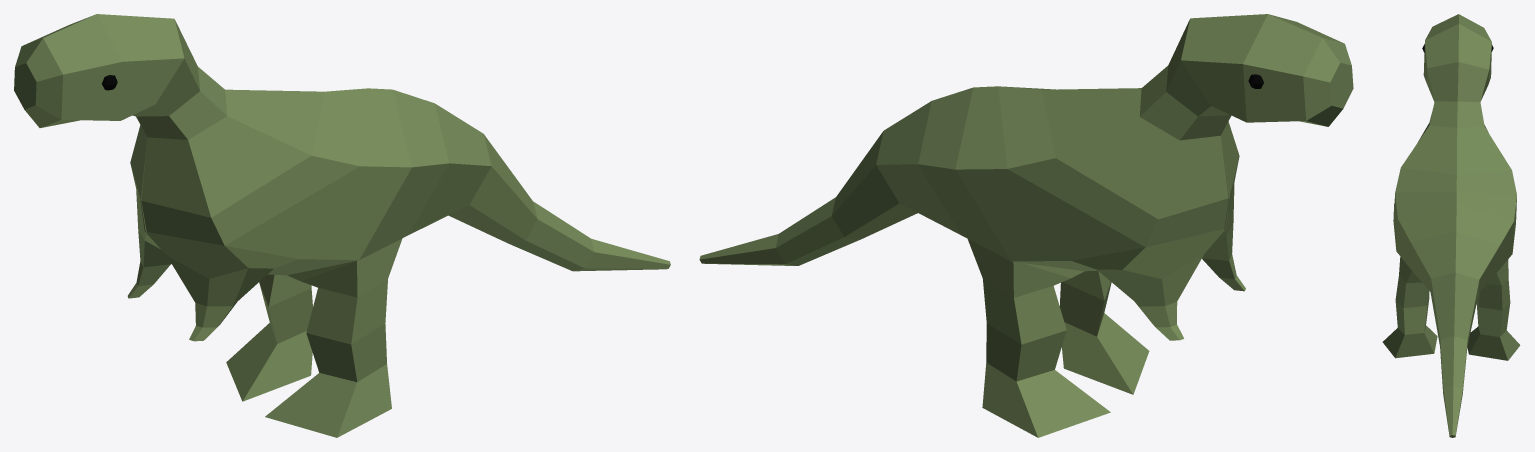
Rendered from T-Rex.fbx.
The picture shows the model from 3 angles, left to right: view 1: azimuth 30°, elevation 25°; view 2: azimuth 150°, elevation 25°; view 3: azimuth 270°, elevation 25°; orthographic projection. The views are drawn at different scales.
Visible parts, largest first — view 1: Sphere.011; view 2: Sphere.011; view 3: Sphere.011.
Part boxes in pixels (x1=…): Sphere.011: x1=14, y1=14, x2=670, y2=437; Sphere.011: x1=699, y1=14, x2=1353, y2=437; Sphere.011: x1=1382, y1=14, x2=1520, y2=437.
Size of the model in its own units: 390 by 249 by 116.
